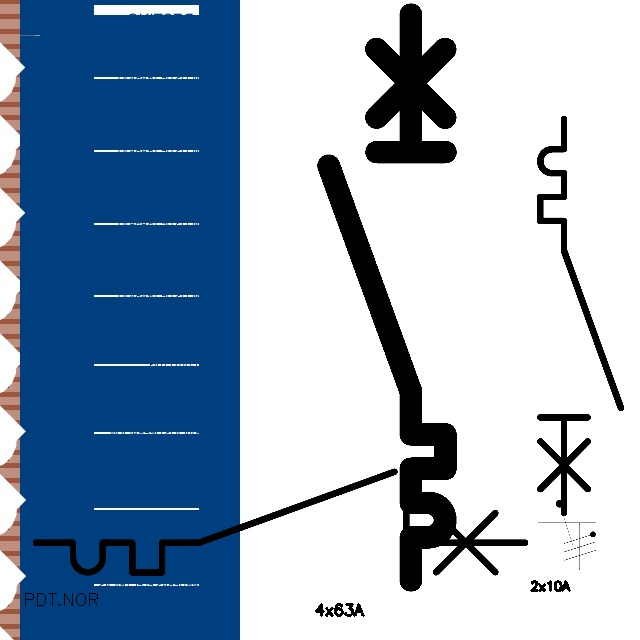interruptor_termomagnetico: (314, 0, 460, 595), (23, 459, 538, 585), (530, 109, 631, 523)
